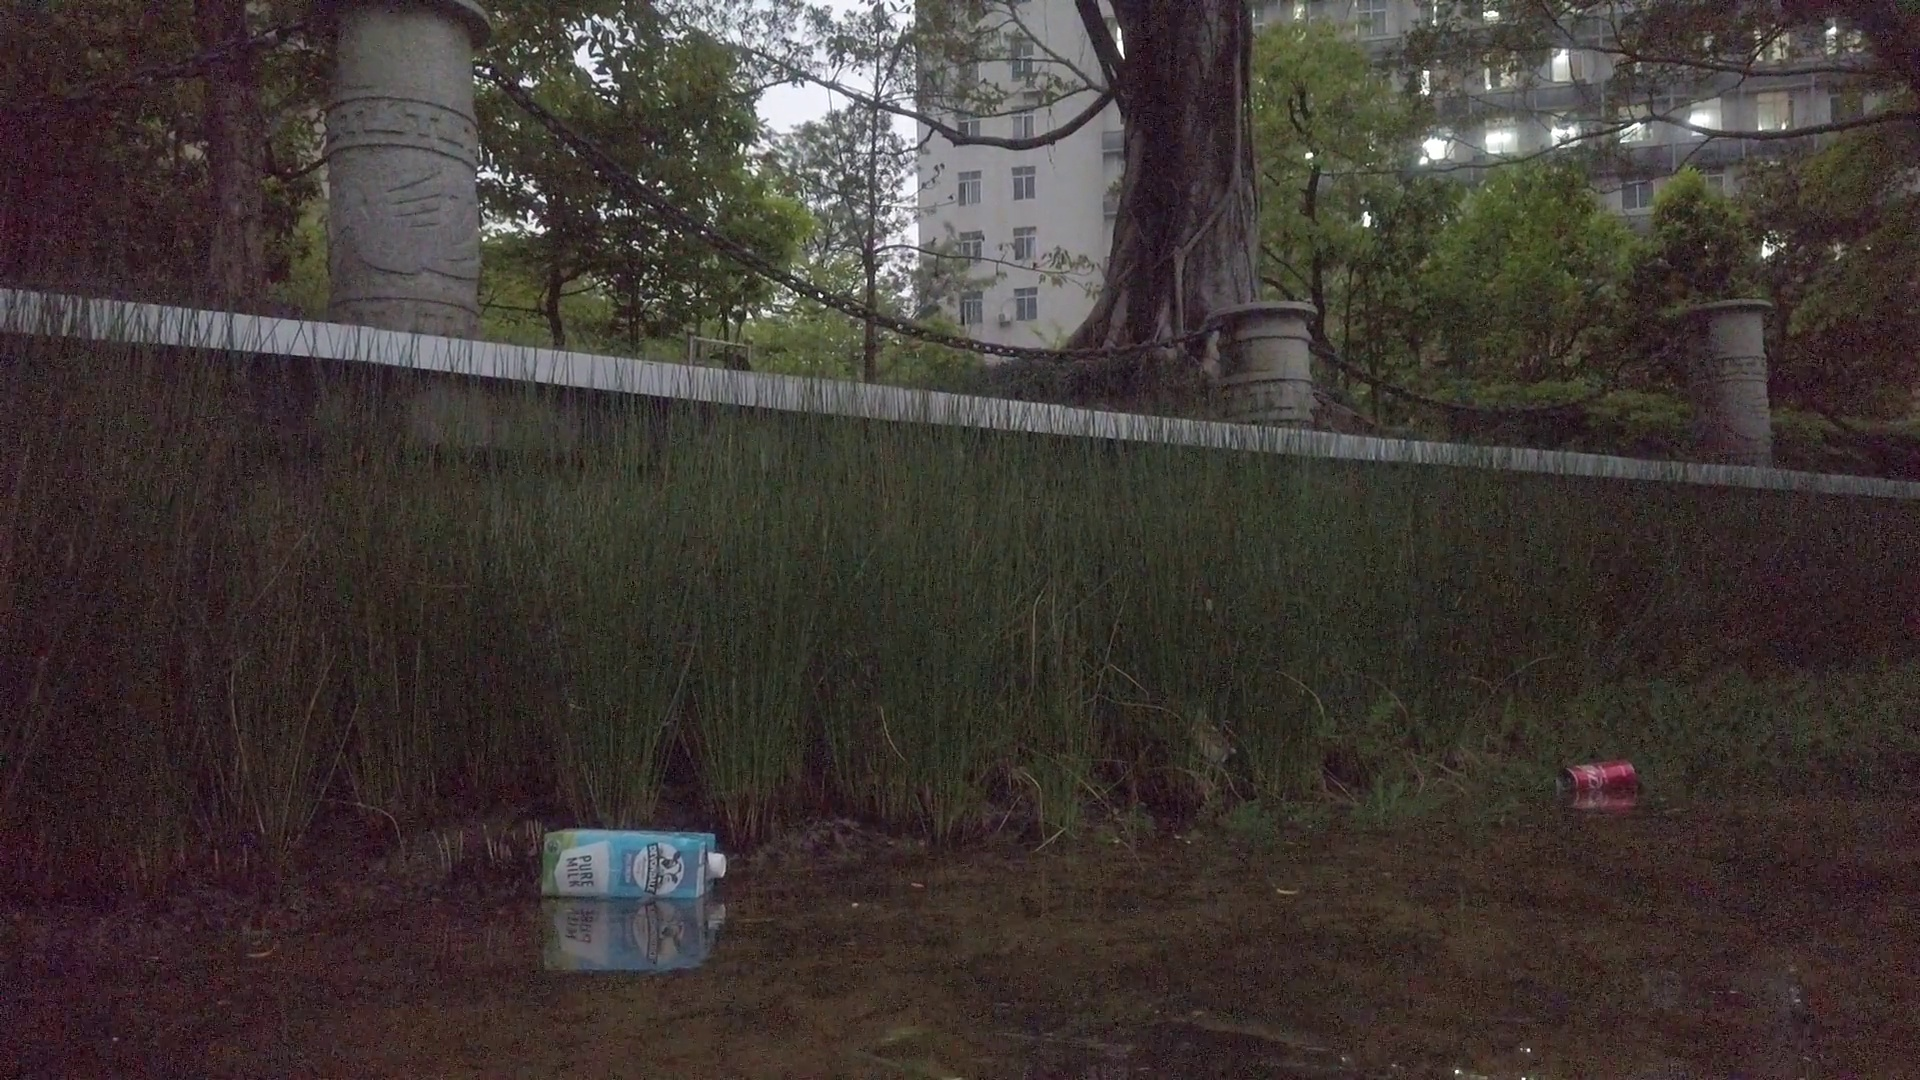carton: (545, 827, 725, 897), (1557, 762, 1640, 799)
